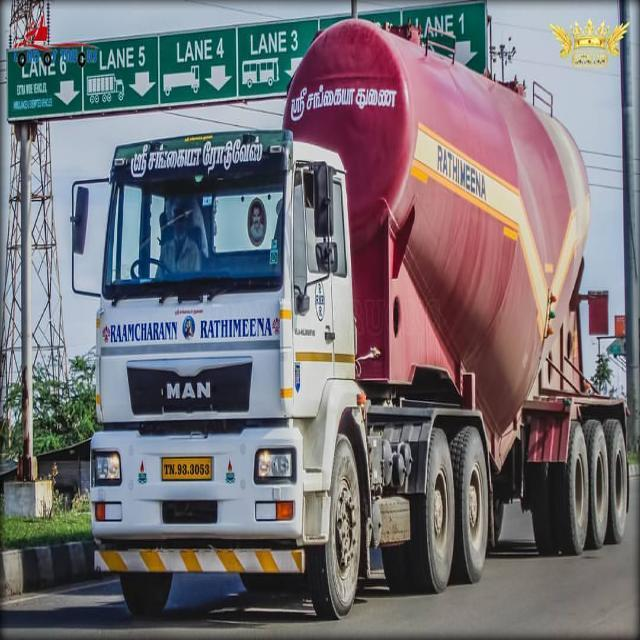Truck: (68, 14, 633, 622)
